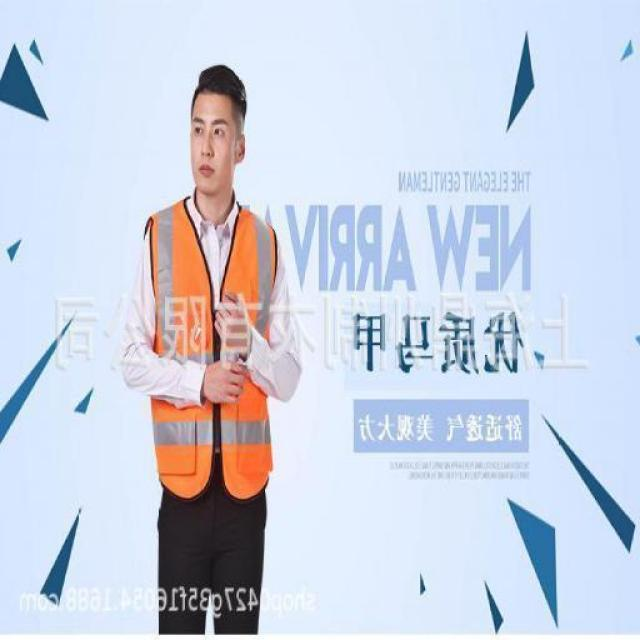vest: (144, 181, 274, 504)
